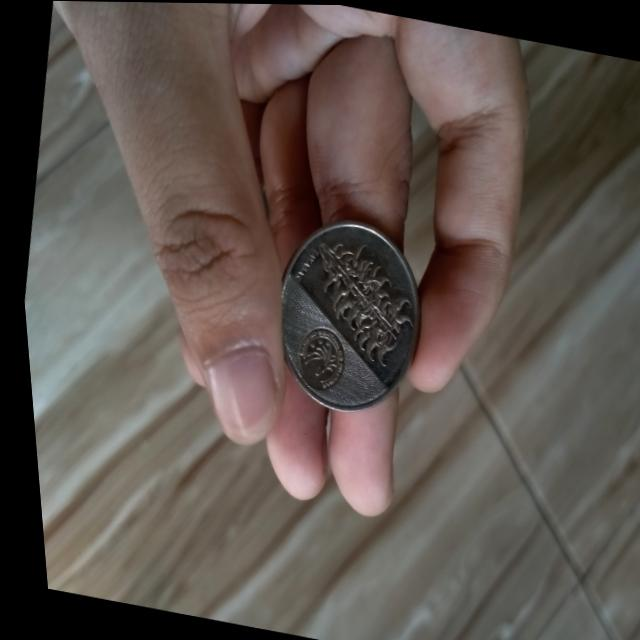5_New_Back: (287, 219, 424, 377)
